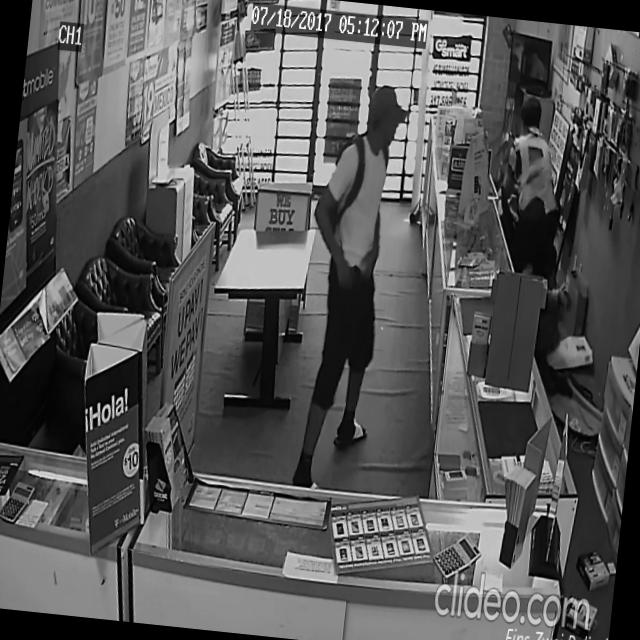gun: (338, 262, 367, 302)
person: (482, 90, 576, 362)
person with a gun: (284, 77, 410, 496)
